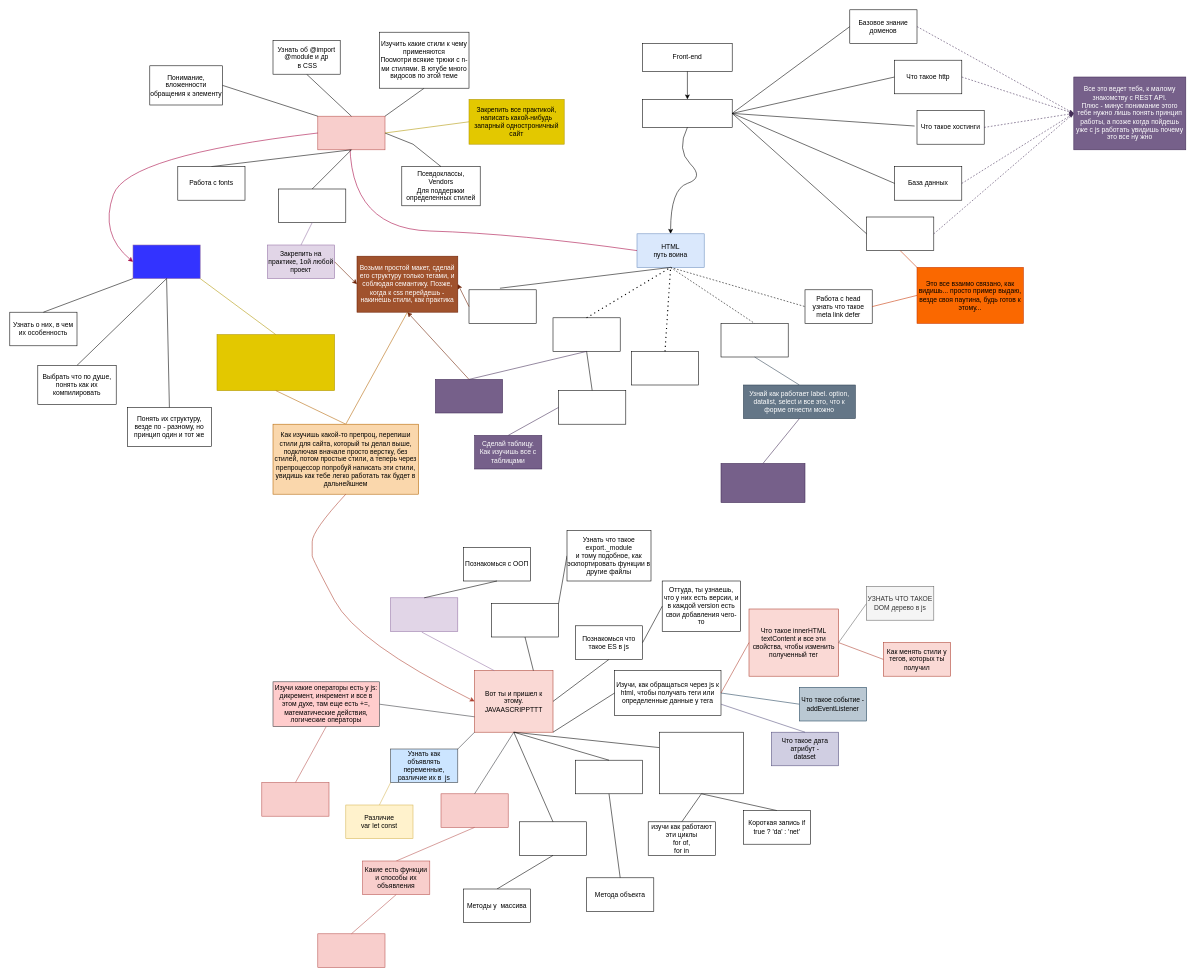
This 1196x977 diagram has some shape labels left out. Here are the shapes that lost their labels. From the top down, the centre of each, then its label:
the point at 351,133: CSS
the point at 687,113: Как работает интернет и браузер
the point at 312,205: Адаптивность media-query flex - grid
the point at 900,233: Как работает SEO поиск
the point at 166,261: Препроцессоры SASS/SCSS/LESS и др.
the point at 502,306: Знать теги, где какие применяются
the point at 586,334: Знать примерную семантику
the point at 754,340: Что такое формы
the point at 275,362: Посмотреть гайды, как они работают, написать че-нибудь легкое, поняв принцип
the point at 665,368: Знание по больше атрибутов у тегов
the point at 469,396: Сделать простой сайт на семантики, без стилей
the point at 592,407: Изучить table, tbody, thead,td,tr и все что связанно с таблицами.
the point at 762,483: Сделай простые формы, регистрации логина, и всякое такое
the point at 424,614: Что такое деструктаризация
the point at 525,620: Как импортировать 1 файл js , в другой
the point at 609,777: Что такое объекты
the point at 701,763: Какие циклы есть в js. Основа for if do while while ..etc
the point at 295,799: Узнай что такое null, NaN, undefined и все такое, в чем их различие?
the point at 474,810: Что такое функции,
the point at 553,838: Чт о такое массив
the point at 351,950: Что такое параметры во функциях
